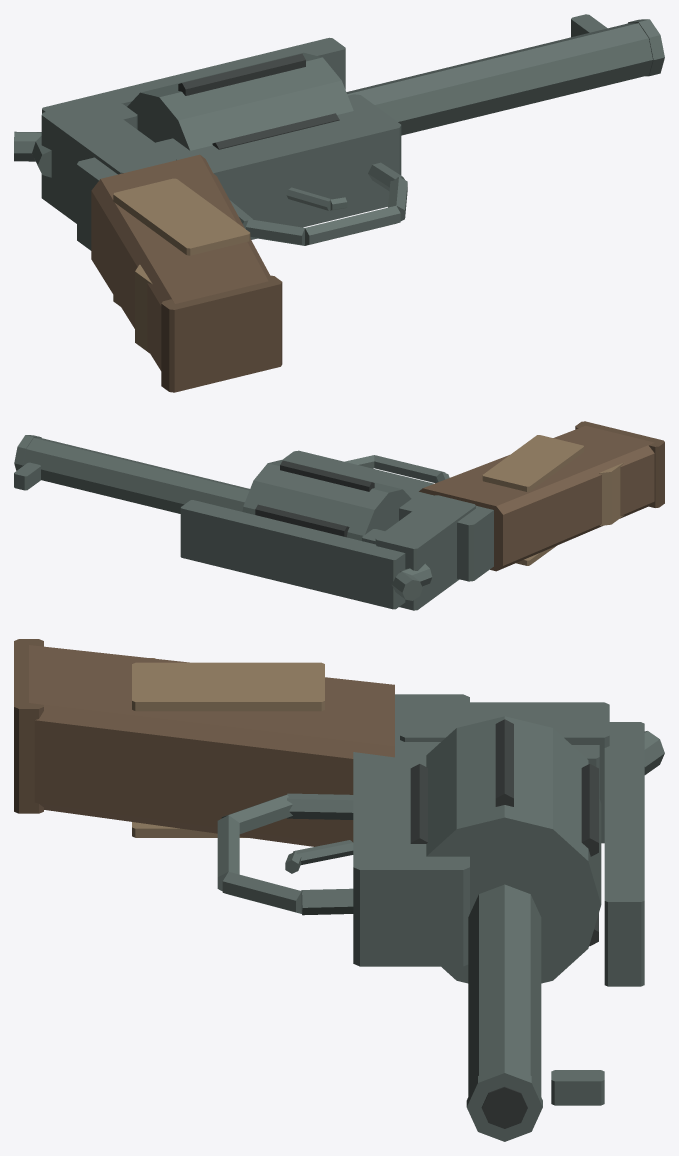
The model's file is weapon-adams-1851.glb.
3 views of the same model, one above another, from view 1: azimuth 30°, elevation 25°; view 2: azimuth 150°, elevation 25°; view 3: azimuth 270°, elevation 25° (orthographic). The views are drawn at different scales.
Visible parts, largest first — view 1: weapon-adams-1851/lower-frame, weapon-adams-1851/barrel, weapon-adams-1851/eight-sided-wood-grip, weapon-adams-1851/fluted-cylinder, weapon-adams-1851/eight-sided-wood-grip-heel, weapon-adams-1851/frame-rear, weapon-adams-1851/grip-plaque-left, weapon-adams-1851/continuous-top-strap, weapon-adams-1851/cylinder-long-flute-3, weapon-adams-1851/hollow-trigger-guard-4, weapon-adams-1851/cylinder-long-flute-4, weapon-adams-1851/hollow-trigger-guard-5 (+5 smaller); view 2: weapon-adams-1851/eight-sided-wood-grip, weapon-adams-1851/continuous-top-strap, weapon-adams-1851/barrel, weapon-adams-1851/fluted-cylinder, weapon-adams-1851/frame-rear, weapon-adams-1851/lower-frame, weapon-adams-1851/grip-plaque-left, weapon-adams-1851/eight-sided-wood-grip-heel, weapon-adams-1851/cylinder-long-flute-2, weapon-adams-1851/heavy-rear-grip-curve, weapon-adams-1851/cylinder-long-flute-3, weapon-adams-1851/hollow-trigger-guard-4 (+4 smaller); view 3: weapon-adams-1851/eight-sided-wood-grip, weapon-adams-1851/fluted-cylinder, weapon-adams-1851/lower-frame, weapon-adams-1851/barrel, weapon-adams-1851/continuous-top-strap, weapon-adams-1851/grip-plaque-left, weapon-adams-1851/frame-rear, weapon-adams-1851/eight-sided-wood-grip-heel, weapon-adams-1851/barrel-end-rim, weapon-adams-1851/front-sight, weapon-adams-1851/hollow-trigger-guard-3, weapon-adams-1851/hollow-trigger-guard-6 (+9 smaller).
Part boxes in pixels (box(x1,y1,x2,y2)): weapon-adams-1851/lower-frame: box(77, 94, 401, 250); weapon-adams-1851/barrel: box(346, 23, 652, 135); weapon-adams-1851/eight-sided-wood-grip: box(91, 154, 270, 370); weapon-adams-1851/fluted-cylinder: box(127, 52, 353, 150); weapon-adams-1851/eight-sided-wood-grip-heel: box(161, 275, 282, 392); weapon-adams-1851/frame-rear: box(41, 100, 176, 223); weapon-adams-1851/grip-plaque-left: box(113, 178, 250, 255); weapon-adams-1851/continuous-top-strap: box(42, 37, 345, 113); weapon-adams-1851/cylinder-long-flute-3: box(178, 53, 305, 95); weapon-adams-1851/hollow-trigger-guard-4: box(305, 205, 400, 245); weapon-adams-1851/cylinder-long-flute-4: box(212, 113, 339, 149); weapon-adams-1851/hollow-trigger-guard-5: box(246, 219, 304, 245); weapon-adams-1851/eight-sided-wood-grip: box(419, 425, 654, 571); weapon-adams-1851/continuous-top-strap: box(180, 500, 405, 609); weapon-adams-1851/barrel: box(23, 438, 249, 513); weapon-adams-1851/fluted-cylinder: box(242, 460, 411, 540); weapon-adams-1851/frame-rear: box(375, 495, 475, 610); weapon-adams-1851/lower-frame: box(282, 450, 493, 581); weapon-adams-1851/grip-plaque-left: box(482, 435, 583, 491); weapon-adams-1851/eight-sided-wood-grip-heel: box(575, 421, 664, 507); weapon-adams-1851/cylinder-long-flute-2: box(255, 504, 349, 537); weapon-adams-1851/heavy-rear-grip-curve: box(599, 462, 623, 525); weapon-adams-1851/cylinder-long-flute-3: box(280, 460, 374, 491); weapon-adams-1851/hollow-trigger-guard-4: box(374, 455, 445, 483); weapon-adams-1851/eight-sided-wood-grip: box(29, 645, 394, 846); weapon-adams-1851/fluted-cylinder: box(426, 716, 601, 983); weapon-adams-1851/lower-frame: box(353, 694, 469, 966); weapon-adams-1851/barrel: box(468, 884, 541, 1096); weapon-adams-1851/continuous-top-strap: box(604, 722, 644, 986); weapon-adams-1851/grip-plaque-left: box(132, 662, 324, 711); weapon-adams-1851/frame-rear: box(400, 702, 609, 843); weapon-adams-1851/eight-sided-wood-grip-heel: box(14, 639, 43, 813); weapon-adams-1851/barrel-end-rim: box(466, 1066, 542, 1141); weapon-adams-1851/front-sight: box(551, 1070, 604, 1105); weapon-adams-1851/hollow-trigger-guard-3: box(222, 872, 302, 913); weapon-adams-1851/hollow-trigger-guard-6: box(287, 793, 353, 819).
Size of the model in its own units: 0.2964 by 0.0654 by 0.1956.
Materials: 4 (4 with a texture image).
